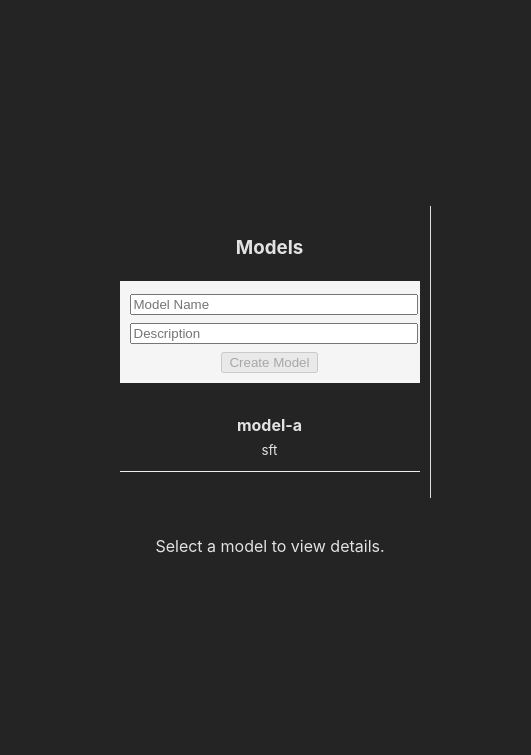
Test: ModelRegistry › selects an artifact and shows details
Click the text "model-a" at (269, 425), box left=237, top=415, right=302, bottom=435
(page scrolled)
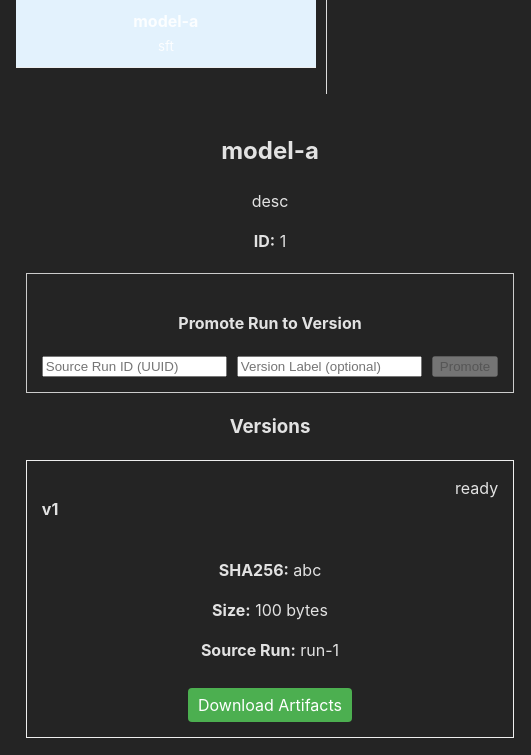
Now the heading "Promote Run to Version" is shown, box left=178, top=313, right=362, bottom=333
Now the heading "v1" is shown, box left=42, top=497, right=58, bottom=521
Now the link "Download Artifacts" is shown, box left=188, top=688, right=352, bottom=722
